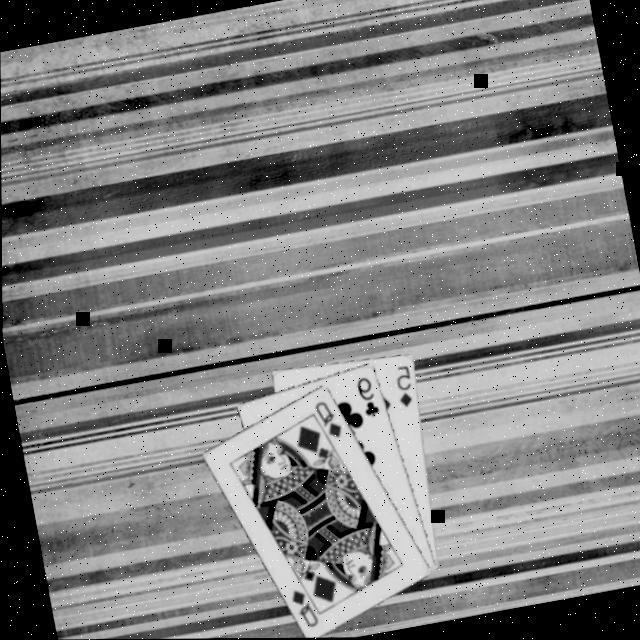5D: (388, 360, 417, 410)
9C: (349, 372, 381, 421)
QD: (283, 582, 319, 632), (307, 394, 343, 443)
